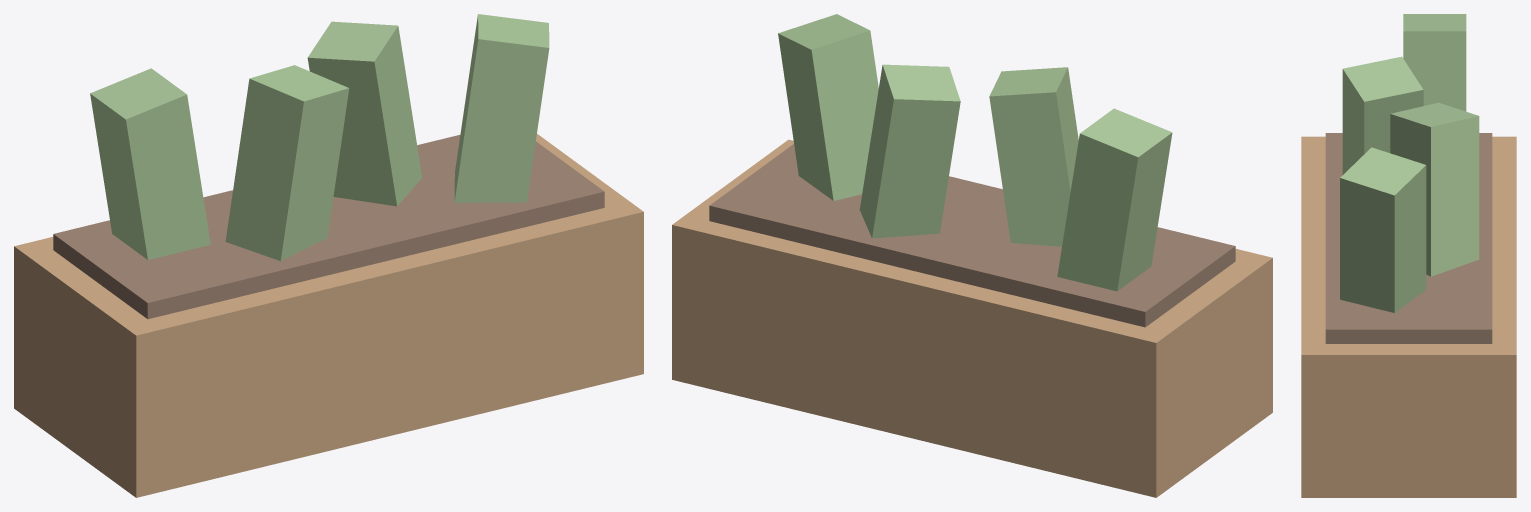
The model's file is planter-box.glb.
The picture shows the model from 3 angles, left to right: view 1: azimuth 30°, elevation 25°; view 2: azimuth 150°, elevation 25°; view 3: azimuth 270°, elevation 25°; orthographic projection. The views are drawn at different scales.
Parts seen in each view (by area): view 1: box, soil, plant-1, plant-0, plant-3, plant-2; view 2: box, soil, plant-0, plant-3, plant-2, plant-1; view 3: box, soil, plant-3, plant-2, plant-1, plant-0.
Boxes of the visible parts, box(x1,y1,x2,y2) form: box: box(14, 134, 643, 497); soil: box(53, 135, 604, 319); plant-1: box(225, 65, 349, 261); plant-0: box(90, 68, 210, 259); plant-3: box(454, 14, 549, 202); plant-2: box(307, 21, 422, 206); box: box(672, 139, 1272, 497); soil: box(709, 144, 1235, 327); plant-0: box(1057, 108, 1172, 291); plant-3: box(778, 14, 878, 200); plant-2: box(859, 64, 960, 238); plant-1: box(989, 67, 1078, 246); box: box(1301, 136, 1516, 497); soil: box(1325, 133, 1492, 343); plant-3: box(1340, 147, 1426, 312); plant-2: box(1390, 102, 1479, 276); plant-1: box(1342, 56, 1423, 174); plant-0: box(1403, 14, 1466, 111).
Size of the model in its own units: 1.8 by 1.14 by 0.75.
